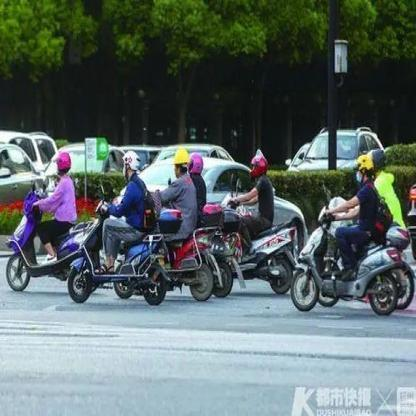target: (293, 153, 403, 321), (66, 152, 159, 305), (213, 145, 294, 298), (143, 147, 219, 307), (5, 150, 83, 292)
